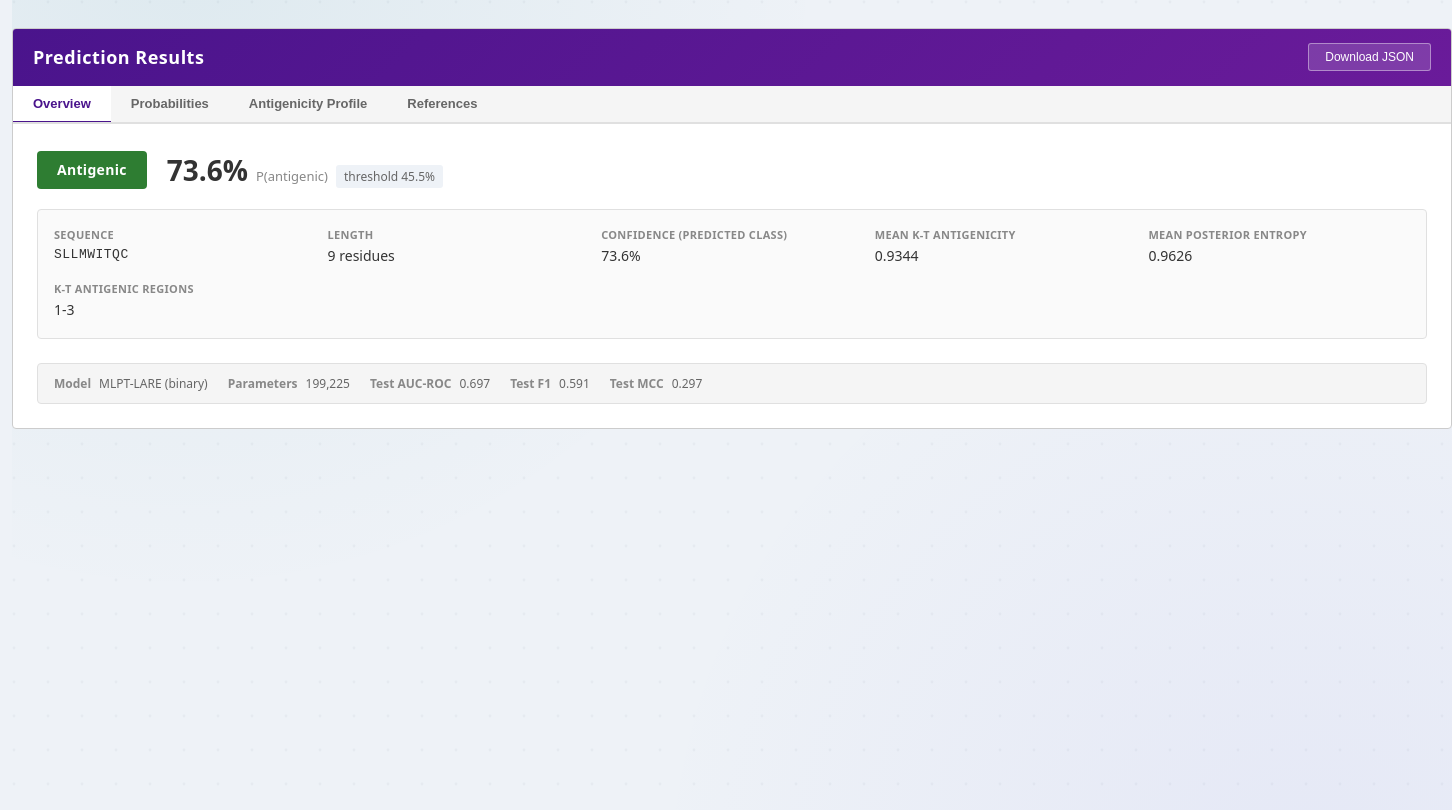
it: AntigenicResults (binary MLPT-LARE) › switches to the Antigenicity Profile tab
This screenshot has width=1452, height=810.
What coordinates should you click on to do the following:
click the button "Antigenicity Profile"
I would click on:
 (308, 105)
Its box is [229,86,387,124].
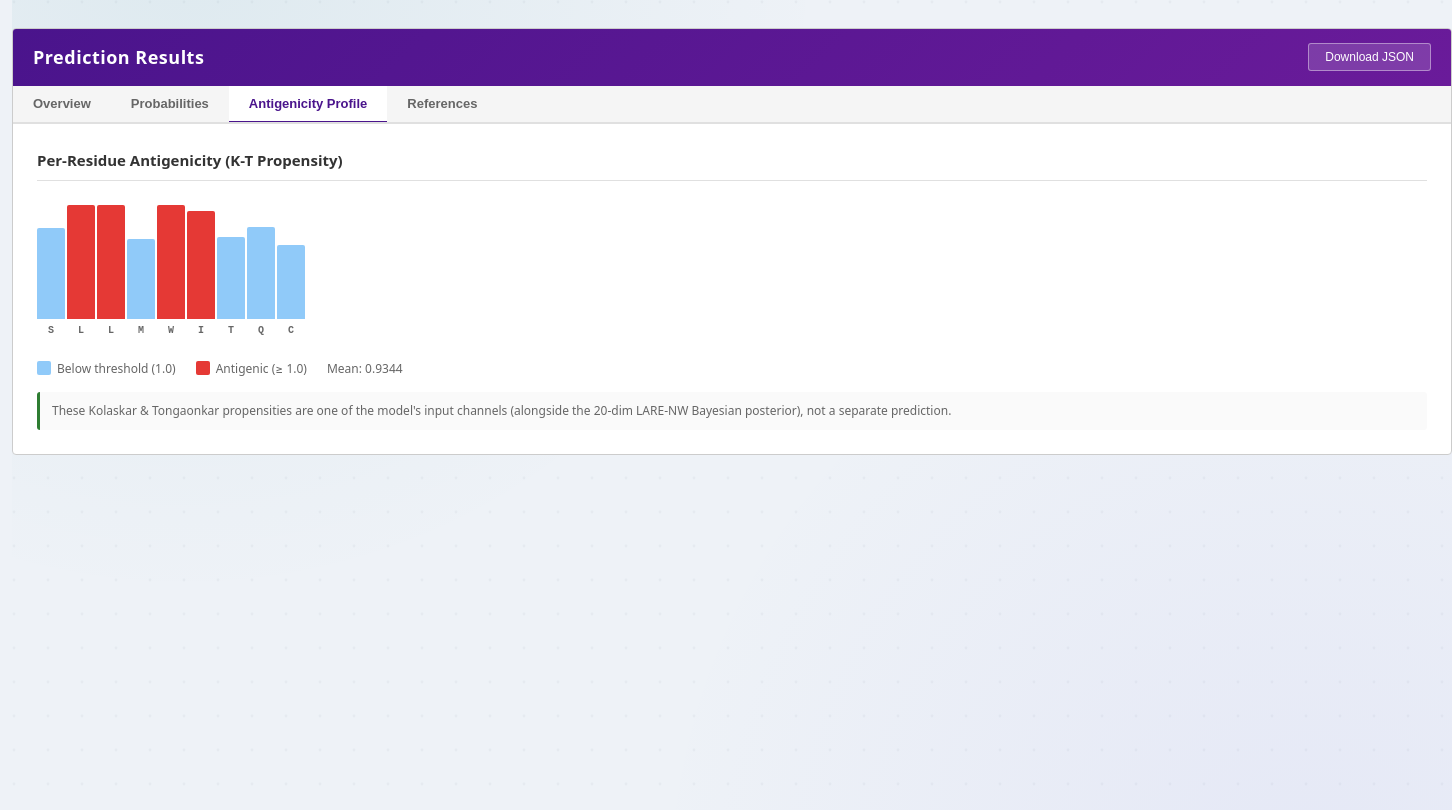
Now the heading "Per-Residue Antigenicity (K-T Propensity)" is shown, box [37,148,1427,181]
Now the number of elements with class "kt-legend-item" is 3, box [37,359,176,378]; [196,359,307,378]; [327,359,403,378]
